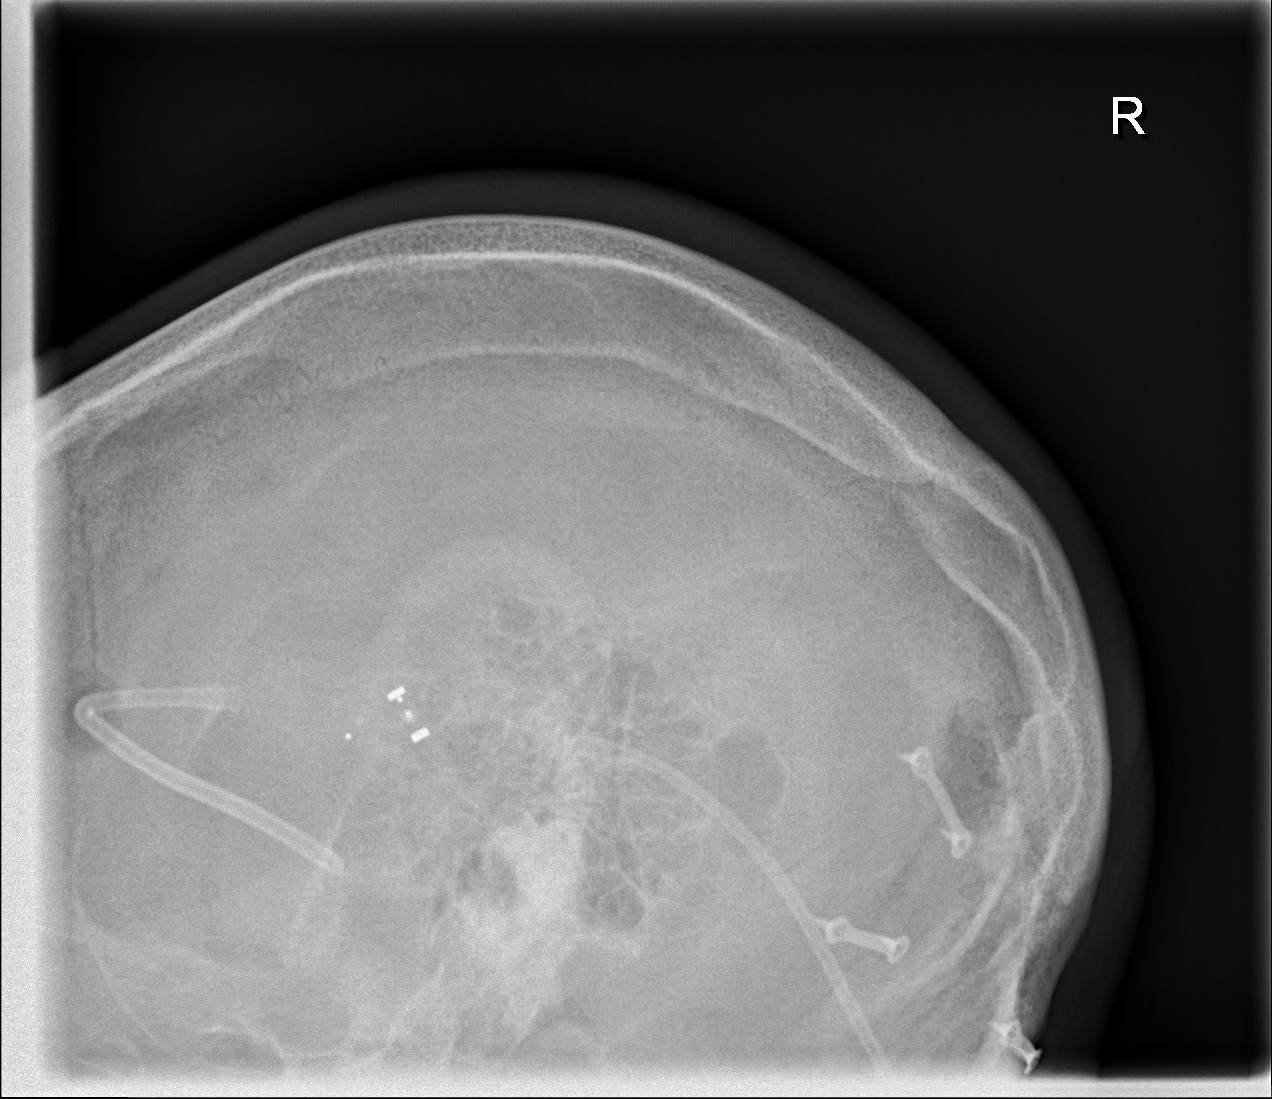Codman Certas: (332, 673, 443, 762)
